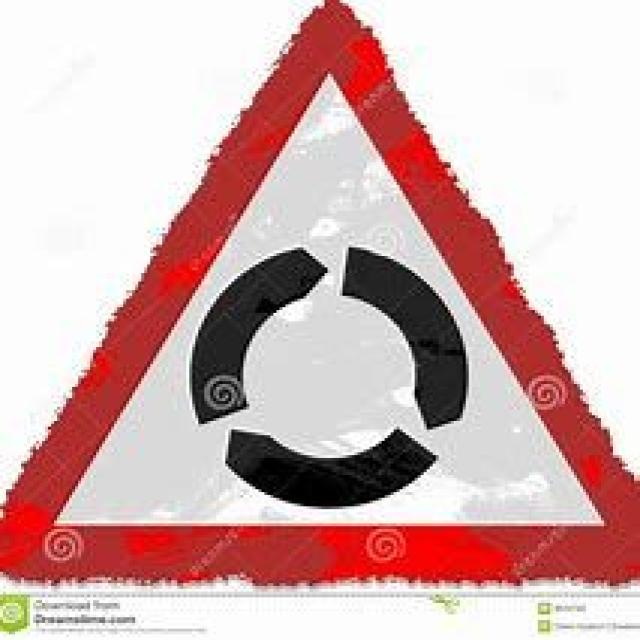ROUNDABOUT: (0, 0, 640, 595)
